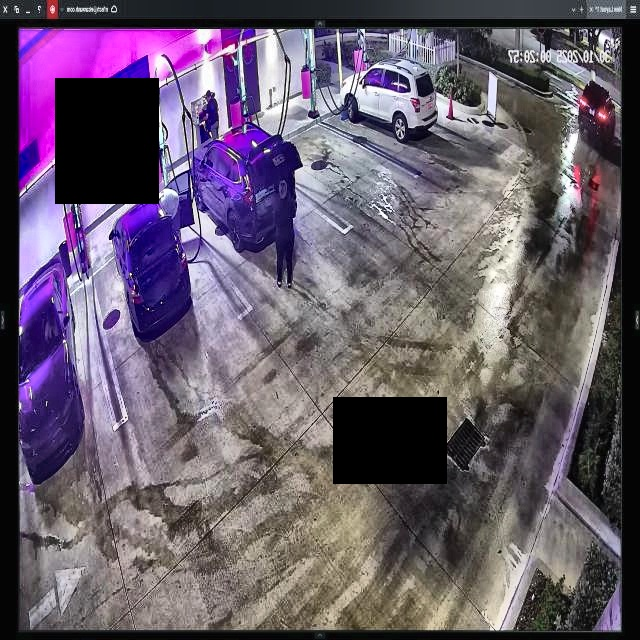Car: (109, 165, 193, 337), (191, 123, 297, 249)
